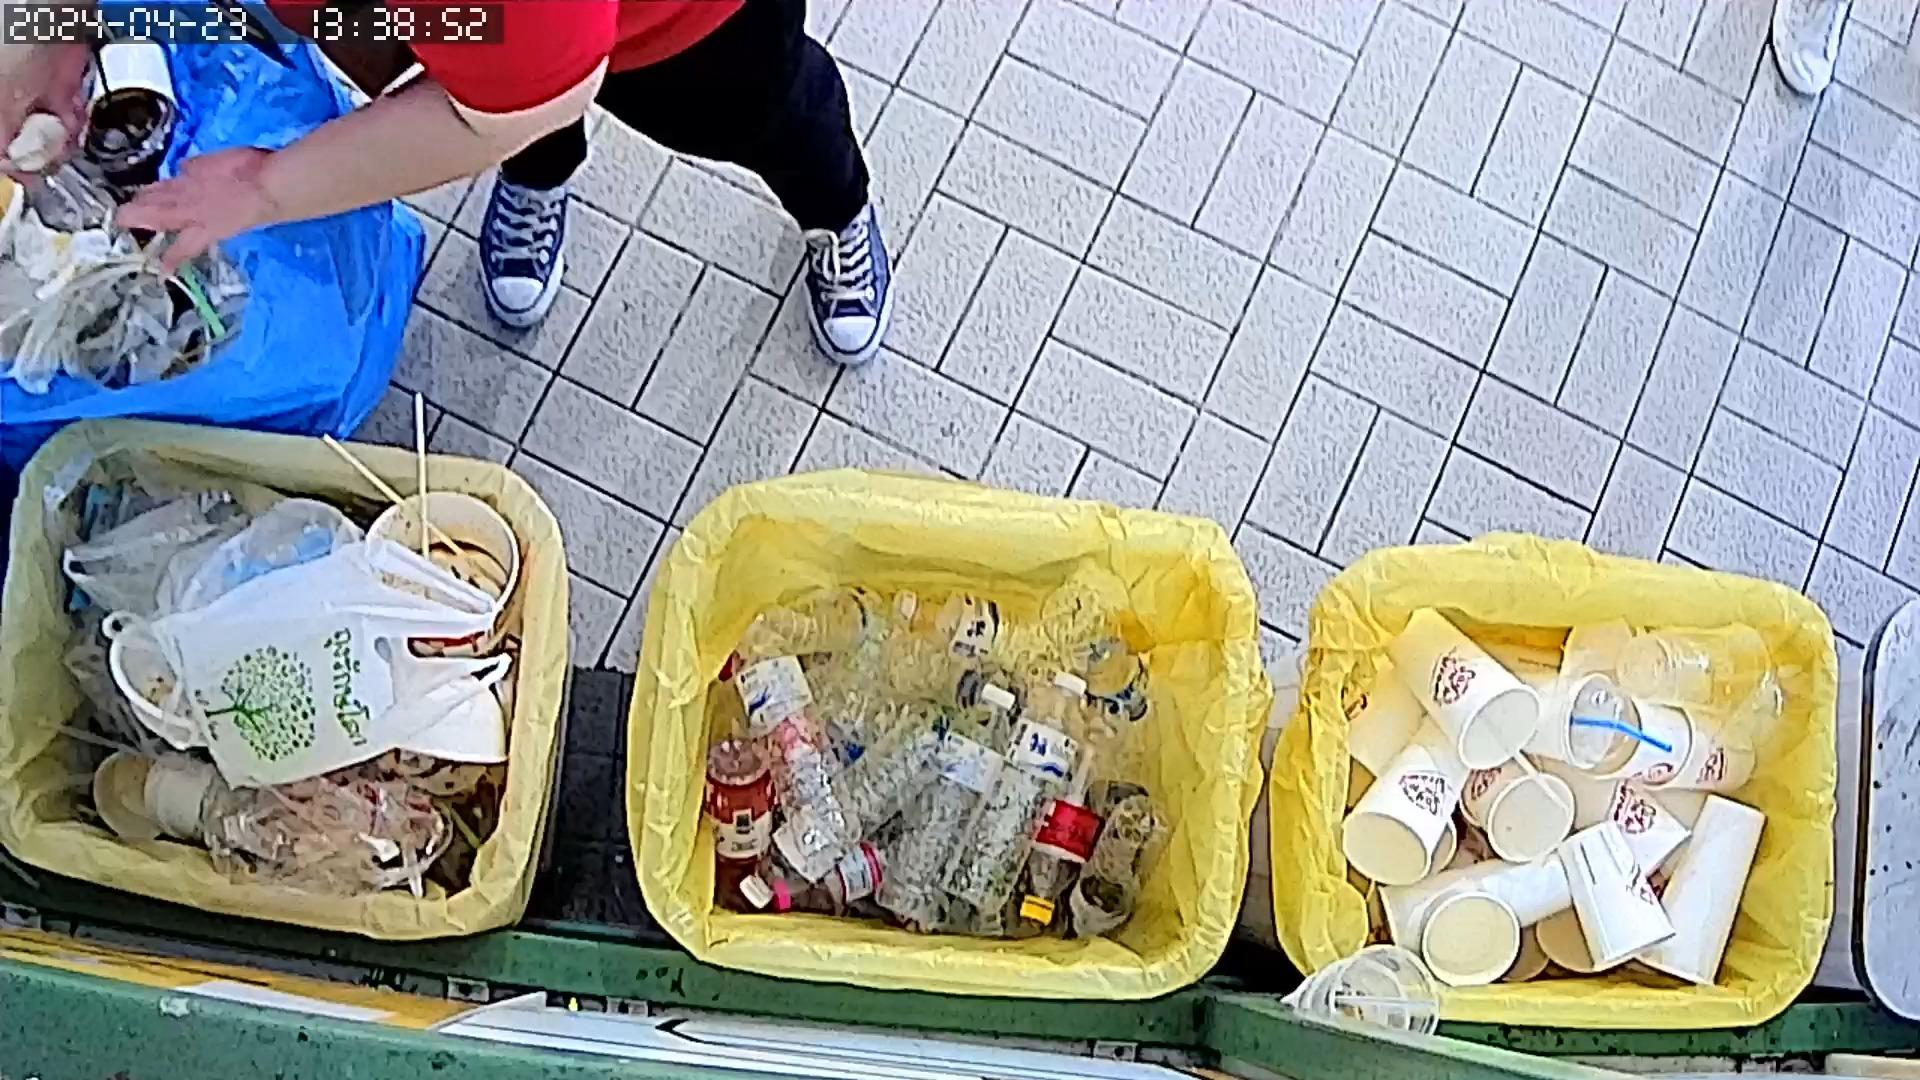can: (705, 738, 777, 869)
filled plastic bag: (40, 435, 262, 616), (195, 765, 440, 902)
food container: (360, 485, 534, 629), (1416, 880, 1532, 989), (79, 736, 182, 853)
plastic bag: (156, 531, 527, 799)
plastic bottle: (740, 705, 968, 910), (864, 683, 1022, 931), (939, 670, 1095, 918), (725, 607, 869, 865), (1009, 735, 1114, 928), (1064, 794, 1185, 945), (1047, 588, 1153, 728), (887, 583, 1060, 667)
plastic cup: (1622, 615, 1795, 723), (1559, 655, 1638, 775)
sticks: (316, 426, 488, 571), (411, 388, 442, 592)
straw: (1481, 713, 1573, 816), (1567, 719, 1684, 753)
tissue paper: (11, 108, 71, 178)
zero waste cup: (1638, 793, 1774, 1004), (1382, 604, 1539, 785), (1336, 712, 1484, 887), (1549, 816, 1684, 976), (1564, 767, 1700, 893), (1469, 758, 1582, 869), (1594, 682, 1701, 783), (1655, 700, 1763, 798)
